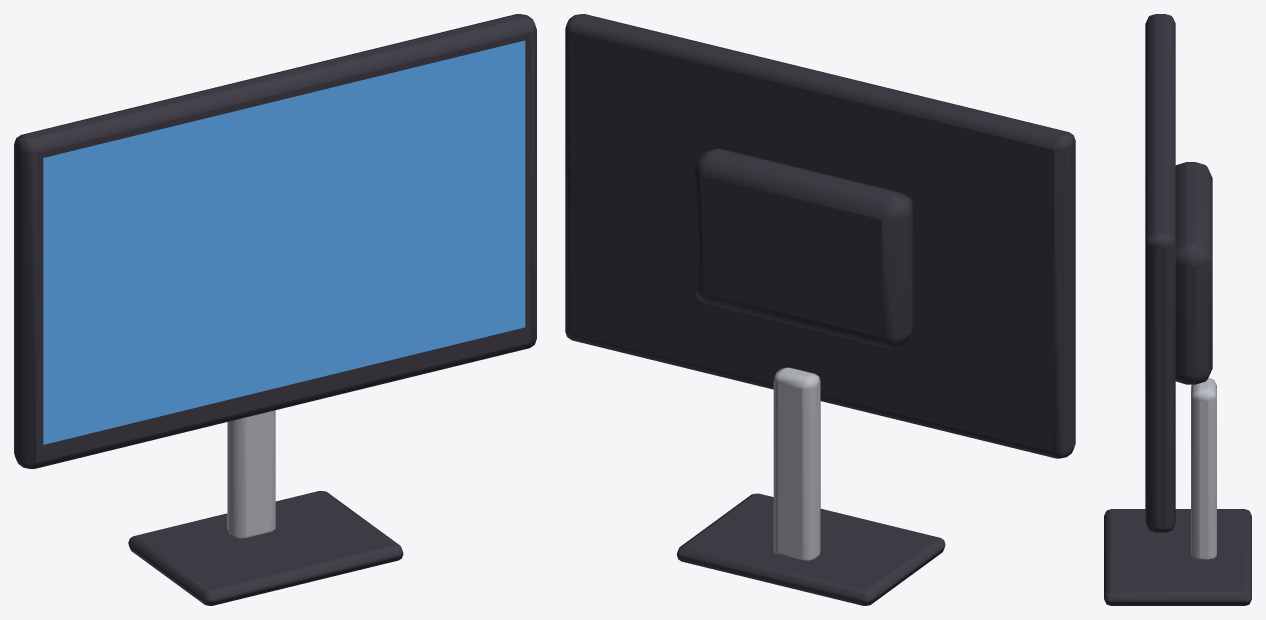
The model's file is monitor.glb.
3 views of the same model, side by side, from view 1: azimuth 30°, elevation 25°; view 2: azimuth 150°, elevation 25°; view 3: azimuth 270°, elevation 25° (orthographic). The views are drawn at different scales.
Visible parts, largest first — view 1: monitor_screen, monitor; view 2: monitor; view 3: monitor.
Boxes of the visible parts, x1,y1,x2,y2 form: monitor_screen: (43,40,525,444); monitor: (14,14,536,605); monitor: (565,14,1075,605); monitor: (1104,14,1251,605).
Bounding box in the file's own units: 0.62 × 0.56 × 0.17.
